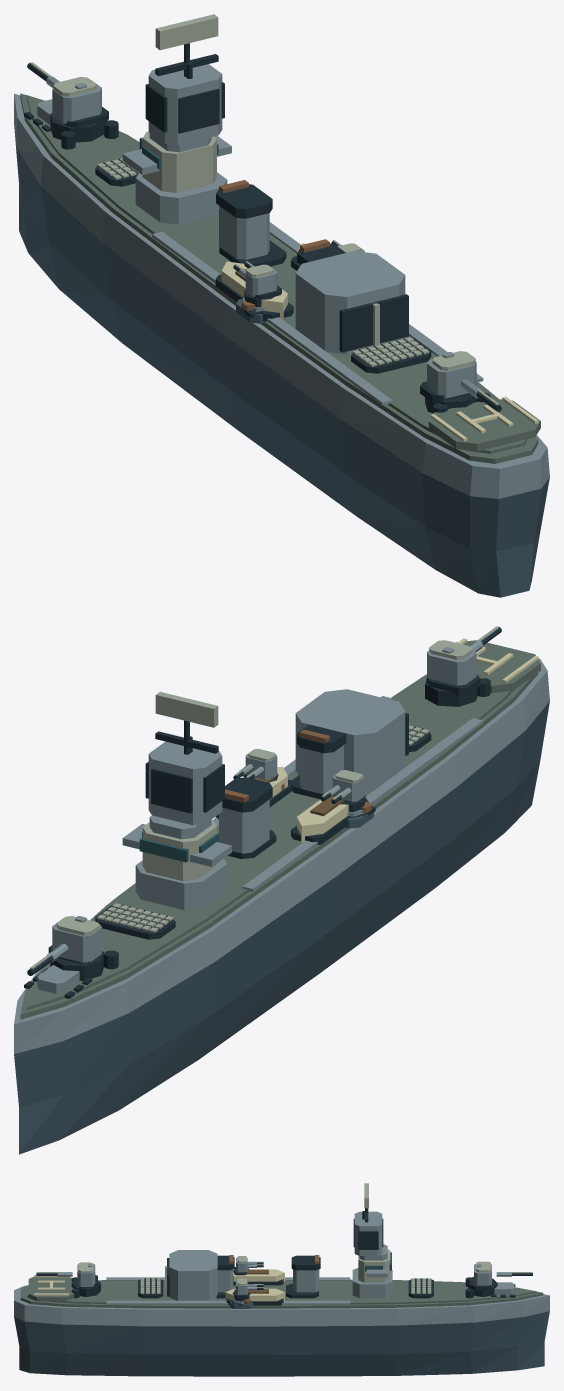
The model's file is historic-ticonderoga.glb.
3 renders of one model, top to bottom at view 1: azimuth 30°, elevation 25°; view 2: azimuth 150°, elevation 25°; view 3: azimuth 270°, elevation 25°, orthographic. The views are drawn at different scales.
Parts seen in each view (by area): view 1: historic-ticonderoga-historic-ticonderoga-geometry, historic-ticonderoga-part_bridge.117-geometry, historic-ticonderoga-historic_funnel_0.110-geometry, historic-ticonderoga-turret_main_0.086-geometry, historic-ticonderoga-turret_main_1.079-geometry, historic-ticonderoga-naval_launcher_1.007-geometry, historic-ticonderoga-turret_aa_aa-port.119-geometry, historic-ticonderoga-naval_launcher_0.011-geometry, historic-ticonderoga-historic_funnel_1.060-geometry; view 2: historic-ticonderoga-historic-ticonderoga-geometry, historic-ticonderoga-part_bridge.117-geometry, historic-ticonderoga-historic_funnel_0.110-geometry, historic-ticonderoga-turret_main_1.079-geometry, historic-ticonderoga-turret_main_0.086-geometry, historic-ticonderoga-historic_funnel_1.060-geometry, historic-ticonderoga-naval_launcher_0.011-geometry, historic-ticonderoga-turret_aa_aa-port.119-geometry, historic-ticonderoga-turret_aa_aa-starboard.115-geometry; view 3: historic-ticonderoga-historic-ticonderoga-geometry, historic-ticonderoga-part_bridge.117-geometry, historic-ticonderoga-historic_funnel_0.110-geometry, historic-ticonderoga-turret_main_0.086-geometry, historic-ticonderoga-turret_main_1.079-geometry, historic-ticonderoga-historic_funnel_1.060-geometry, historic-ticonderoga-naval_launcher_0.011-geometry, historic-ticonderoga-naval_launcher_1.007-geometry, historic-ticonderoga-turret_aa_aa-starboard.115-geometry, historic-ticonderoga-turret_aa_aa-port.119-geometry.
Boxes of the visible parts, bbox=[...] form: historic-ticonderoga-historic-ticonderoga-geometry: bbox=[14, 93, 549, 597]; historic-ticonderoga-part_bridge.117-geometry: bbox=[122, 14, 231, 224]; historic-ticonderoga-historic_funnel_0.110-geometry: bbox=[216, 180, 286, 266]; historic-ticonderoga-turret_main_0.086-geometry: bbox=[27, 62, 108, 142]; historic-ticonderoga-turret_main_1.079-geometry: bbox=[420, 351, 501, 412]; historic-ticonderoga-naval_launcher_1.007-geometry: bbox=[351, 337, 431, 373]; historic-ticonderoga-turret_aa_aa-port.119-geometry: bbox=[233, 261, 281, 307]; historic-ticonderoga-naval_launcher_0.011-geometry: bbox=[95, 158, 138, 186]; historic-ticonderoga-historic_funnel_1.060-geometry: bbox=[297, 239, 345, 265]; historic-ticonderoga-historic-ticonderoga-geometry: bbox=[14, 638, 549, 1154]; historic-ticonderoga-part_bridge.117-geometry: bbox=[122, 691, 231, 910]; historic-ticonderoga-historic_funnel_0.110-geometry: bbox=[218, 777, 276, 858]; historic-ticonderoga-turret_main_1.079-geometry: bbox=[425, 626, 501, 706]; historic-ticonderoga-turret_main_0.086-geometry: bbox=[27, 916, 103, 980]; historic-ticonderoga-historic_funnel_1.060-geometry: bbox=[291, 724, 346, 799]; historic-ticonderoga-naval_launcher_0.011-geometry: bbox=[95, 903, 175, 939]; historic-ticonderoga-turret_aa_aa-port.119-geometry: bbox=[320, 770, 365, 812]; historic-ticonderoga-turret_aa_aa-starboard.115-geometry: bbox=[233, 748, 278, 782]; historic-ticonderoga-historic-ticonderoga-geometry: bbox=[14, 1250, 549, 1376]; historic-ticonderoga-part_bridge.117-geometry: bbox=[352, 1183, 392, 1298]; historic-ticonderoga-historic_funnel_0.110-geometry: bbox=[286, 1255, 320, 1298]; historic-ticonderoga-turret_main_0.086-geometry: bbox=[468, 1261, 532, 1296]; historic-ticonderoga-turret_main_1.079-geometry: bbox=[36, 1262, 100, 1296]; historic-ticonderoga-historic_funnel_1.060-geometry: bbox=[216, 1255, 234, 1298]; historic-ticonderoga-naval_launcher_0.011-geometry: bbox=[408, 1278, 433, 1298]; historic-ticonderoga-naval_launcher_1.007-geometry: bbox=[138, 1278, 163, 1298]; historic-ticonderoga-turret_aa_aa-starboard.115-geometry: bbox=[232, 1278, 263, 1301]; historic-ticonderoga-turret_aa_aa-port.119-geometry: bbox=[233, 1256, 263, 1275].
Size of the model in its own units: 0.621 by 1.56 by 4.32.
